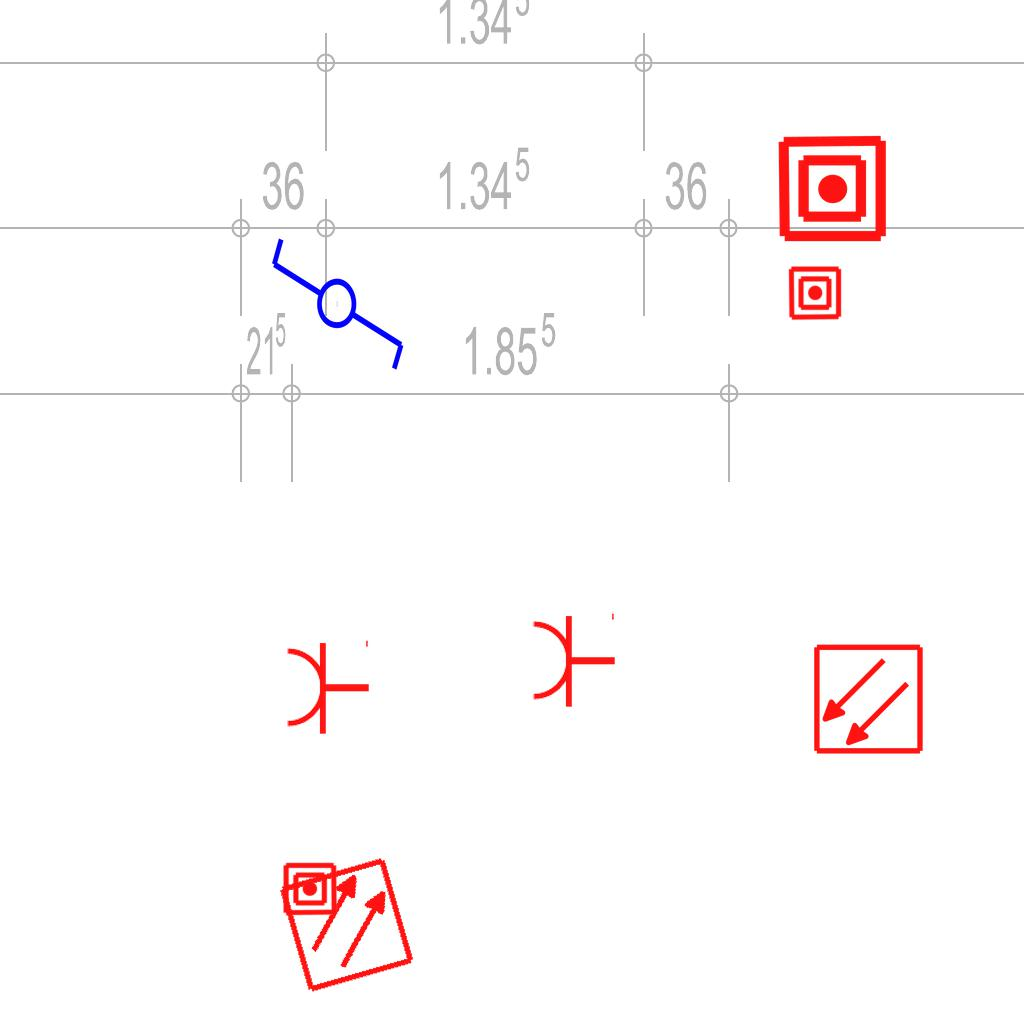NAM-Nichtautomatischer_Melder: (776, 132, 889, 245), (787, 265, 843, 321), (282, 861, 338, 917)
RMO_Rauchmelder_optischer: (276, 854, 417, 995), (812, 643, 925, 756)
Schukosteckdose_einfach: (284, 636, 371, 736), (530, 609, 617, 709)
Wechselschalter: (267, 217, 411, 374)
